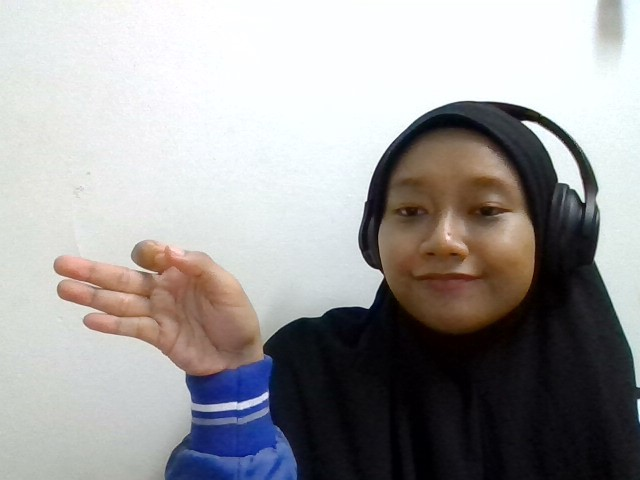Tudung: (53, 237, 262, 377)
